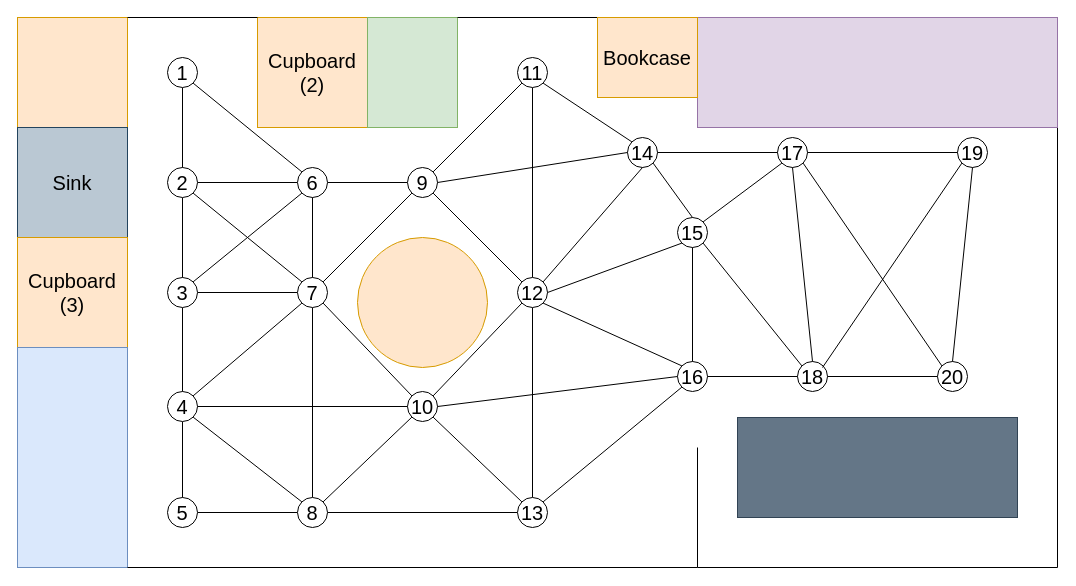
This 1076x586 diagram has some shape labels left out. The box of each missing label's shape, as (x1, y1, x2, y2) in pixels:
Cupboard (1): (16, 16, 128, 128)
Entertainment: (696, 16, 1058, 128)
Fridge: (366, 16, 458, 128)
Sofa: (736, 416, 1018, 518)
Table: (356, 236, 488, 368)
Work Surface: (16, 346, 128, 568)
